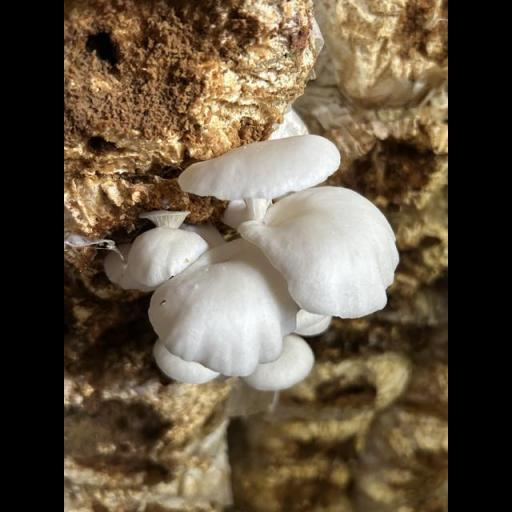White Oyster Mushroom: (115, 128, 413, 404)
